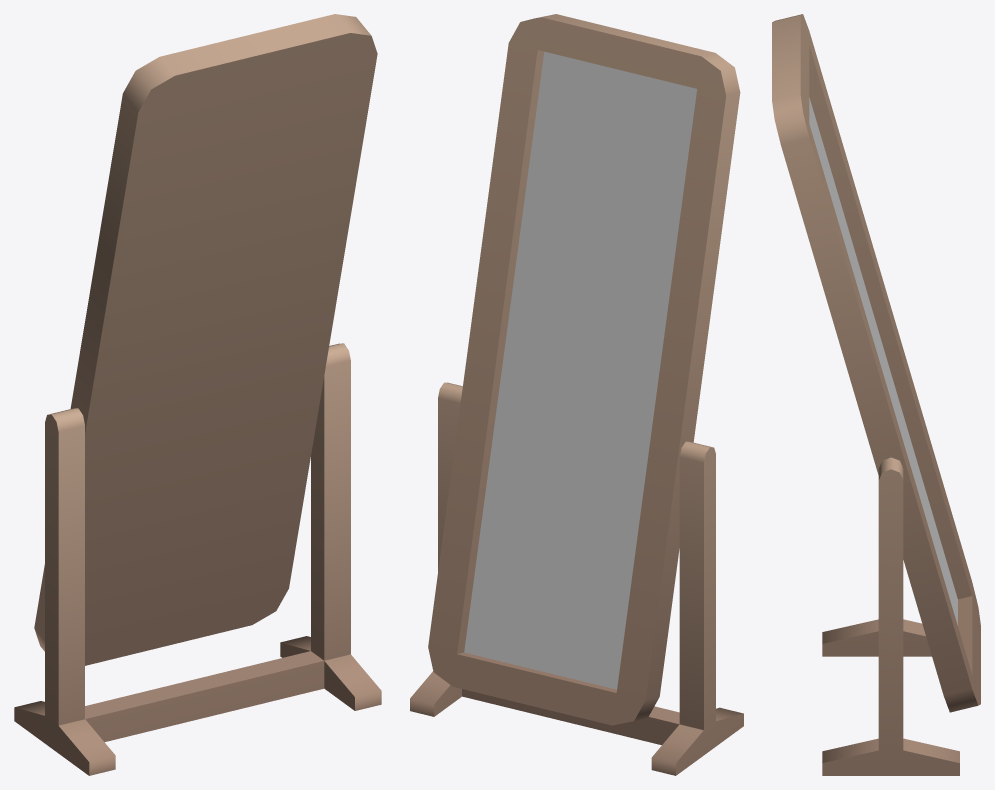
File: mirror-standing.glb
3 views of the same model, side by side, from view 1: azimuth 30°, elevation 25°; view 2: azimuth 150°, elevation 25°; view 3: azimuth 270°, elevation 25° (orthographic). The views are drawn at different scales.
Visible parts, largest first — view 1: mirror-standing; view 2: mirror-standing; view 3: mirror-standing.
Boxes of the visible parts, x1=… form: mirror-standing: x1=14, y1=14, x2=381, y2=775; mirror-standing: x1=410, y1=14, x2=743, y2=775; mirror-standing: x1=772, y1=14, x2=980, y2=775.
Bounding box in the file's own units: 0.5771 × 1.35 × 0.3886.
